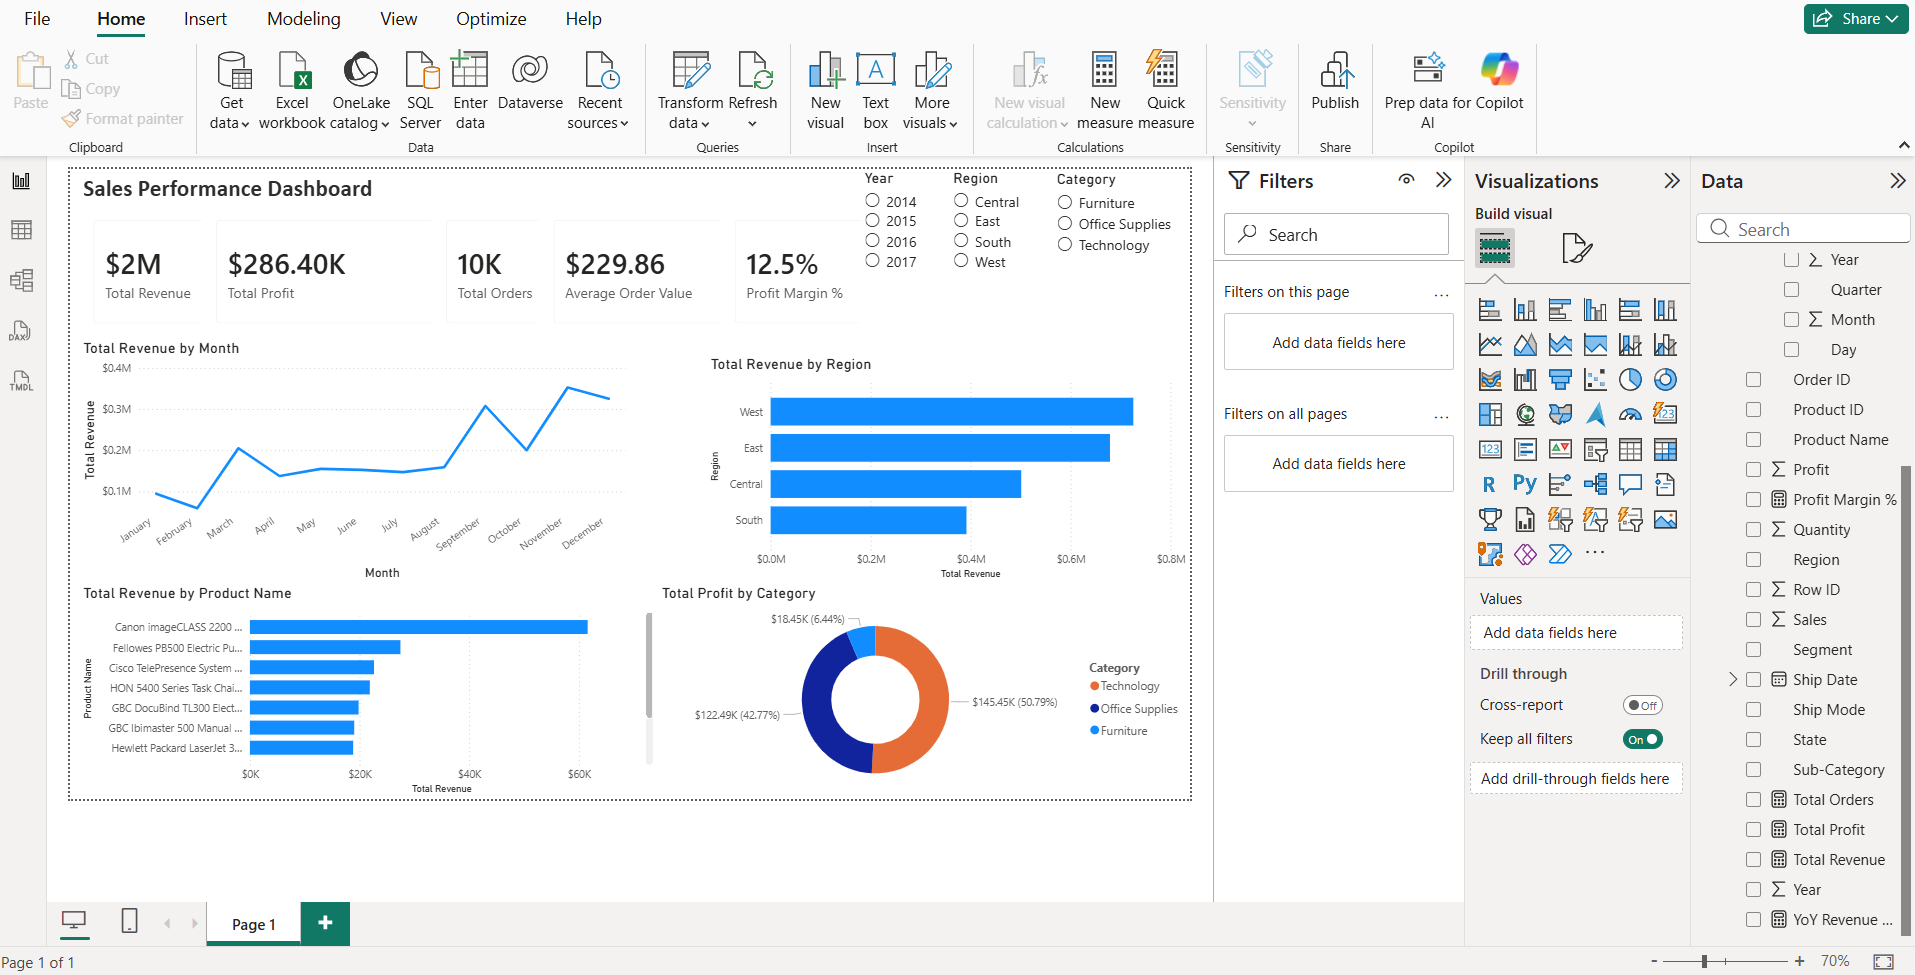

Layout of this report page (visuals, bound fields, positions):
{"tool":"powerbi","page":{"name":"Page 1","canvas":[1280,720],"ordinal":0},"visuals":[{"type":"textbox","box":[10,290,280,280],"z":1},{"type":"textbox","box":[9.6,0,373.2,263.5],"z":2},{"type":"cardVisual","fields":{"Data":["Sample_ Superstore.Total Revenue"]},"box":[10,41.4,170,152.9],"z":3},{"type":"cardVisual","fields":{"Data":["Sample_ Superstore.Total Profit"]},"box":[150,41.4,285.7,152.9],"z":4},{"type":"cardVisual","fields":{"Data":["Sample_ Superstore.Total Orders"]},"box":[412.9,41.4,282.9,152.9],"z":5},{"type":"cardVisual","fields":{"Data":["Sample_ Superstore.Average Order Value"]},"box":[535.7,41.4,272.9,152.9],"z":6},{"type":"cardVisual","fields":{"Data":["Sample_ Superstore.Profit Margin %"]},"box":[742.9,41.4,272.9,152.9],"z":7},{"type":"lineChart","fields":{"Category":["Sample_ Superstore.Order Date.Variation.Date Hierarchy.Month"],"Y":["Sample_ Superstore.Total Revenue"]},"box":[9.6,194.9,629.8,279.9],"z":8},{"type":"clusteredBarChart","fields":{"Category":["Sample_ Superstore.Region"],"Y":["Sample_ Superstore.Total Revenue"]},"box":[727.1,212.9,552.9,261.4],"z":9},{"type":"clusteredBarChart","fields":{"Category":["Sample_ Superstore.Product Name"],"Y":["Sample_ Superstore.Total Revenue"]},"box":[10,474.3,661.4,245.7],"z":10},{"type":"donutChart","fields":{"Category":["Sample_ Superstore.Category"],"Y":["Sample_ Superstore.Total Profit"]},"box":[671.4,474.3,608.6,245.7],"z":11},{"type":"listSlicer","fields":{"Values":["Sample_ Superstore.Order Date.Variation.Date Hierarchy.Year"]},"box":[902.9,0,101.4,212.9],"z":12},{"type":"listSlicer","fields":{"Values":["Sample_ Superstore.Region"]},"box":[1004.3,0,118.6,212.9],"z":13},{"type":"listSlicer","fields":{"Values":["Sample_ Superstore.Category"]},"box":[1122.9,1.4,157.1,225.7],"z":14}]}

Visuals, with their boxes on the page's 1280x720 design canvas (x1, y1, x2, y2). These are canvas units, not pixel positions in the 1915x975 screenshot, which may show the page scaled, cropped or inside an application window:
textbox: bbox=(10, 290, 290, 570)
textbox: bbox=(10, 0, 383, 264)
cardVisual - Sample_ Superstore.Total Revenue: bbox=(10, 41, 180, 194)
cardVisual - Sample_ Superstore.Total Profit: bbox=(150, 41, 436, 194)
cardVisual - Sample_ Superstore.Total Orders: bbox=(413, 41, 696, 194)
cardVisual - Sample_ Superstore.Average Order Value: bbox=(536, 41, 809, 194)
cardVisual - Sample_ Superstore.Profit Margin %: bbox=(743, 41, 1016, 194)
lineChart - Sample_ Superstore.Order Date.Variation.Date Hierarchy.Month x Sample_ Superstore.Total Revenue: bbox=(10, 195, 639, 475)
clusteredBarChart - Sample_ Superstore.Region x Sample_ Superstore.Total Revenue: bbox=(727, 213, 1280, 474)
clusteredBarChart - Sample_ Superstore.Product Name x Sample_ Superstore.Total Revenue: bbox=(10, 474, 671, 720)
donutChart - Sample_ Superstore.Category x Sample_ Superstore.Total Profit: bbox=(671, 474, 1280, 720)
listSlicer - Sample_ Superstore.Order Date.Variation.Date Hierarchy.Year: bbox=(903, 0, 1004, 213)
listSlicer - Sample_ Superstore.Region: bbox=(1004, 0, 1123, 213)
listSlicer - Sample_ Superstore.Category: bbox=(1123, 1, 1280, 227)
